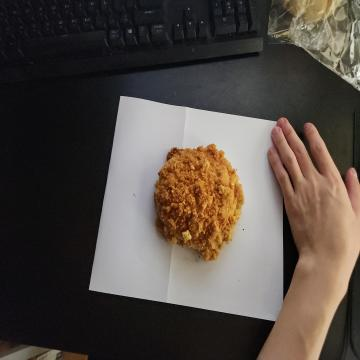soboru_bread: (156, 140, 246, 264)
